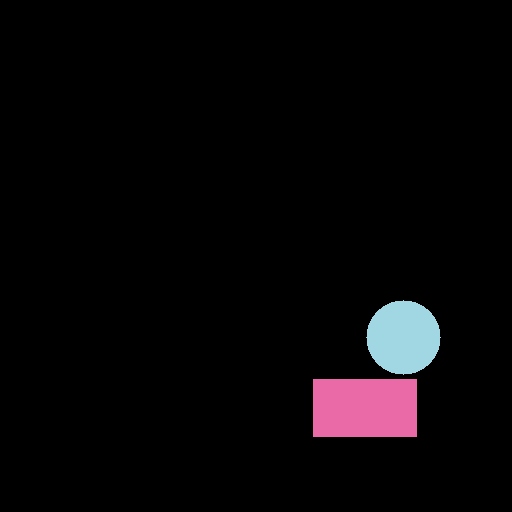circle: (366, 300, 440, 374)
rectangle: (313, 379, 416, 436)
